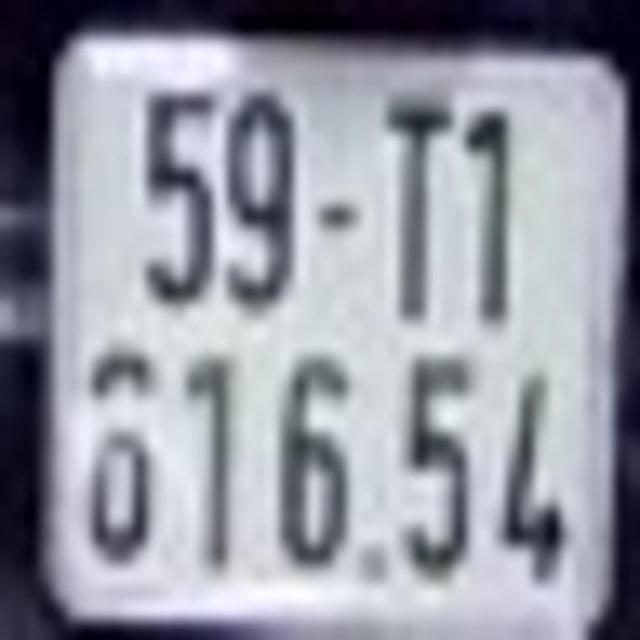1: (462, 103, 517, 320), (184, 346, 234, 565)
4: (505, 361, 570, 586)
5: (136, 83, 219, 311), (402, 354, 476, 573)
6: (272, 347, 356, 568), (87, 346, 156, 568)
9: (220, 89, 296, 314)
T: (382, 94, 454, 324)
